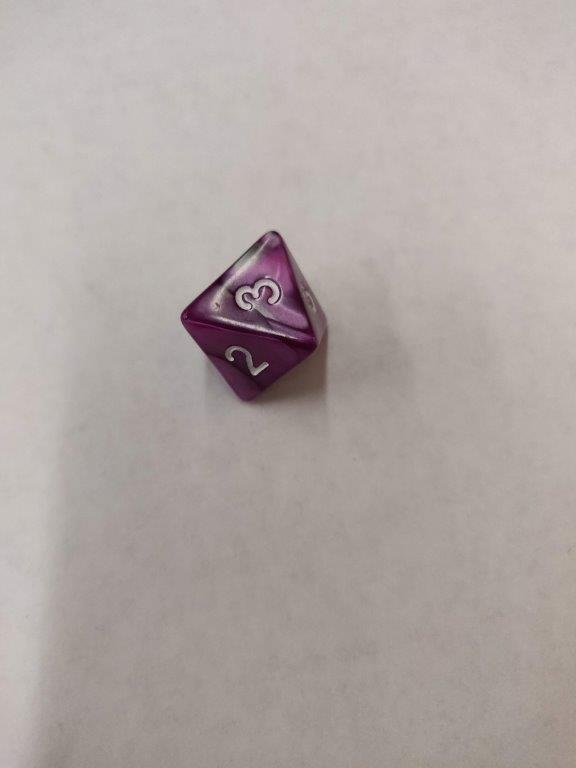d8-3: (179, 229, 328, 405)
